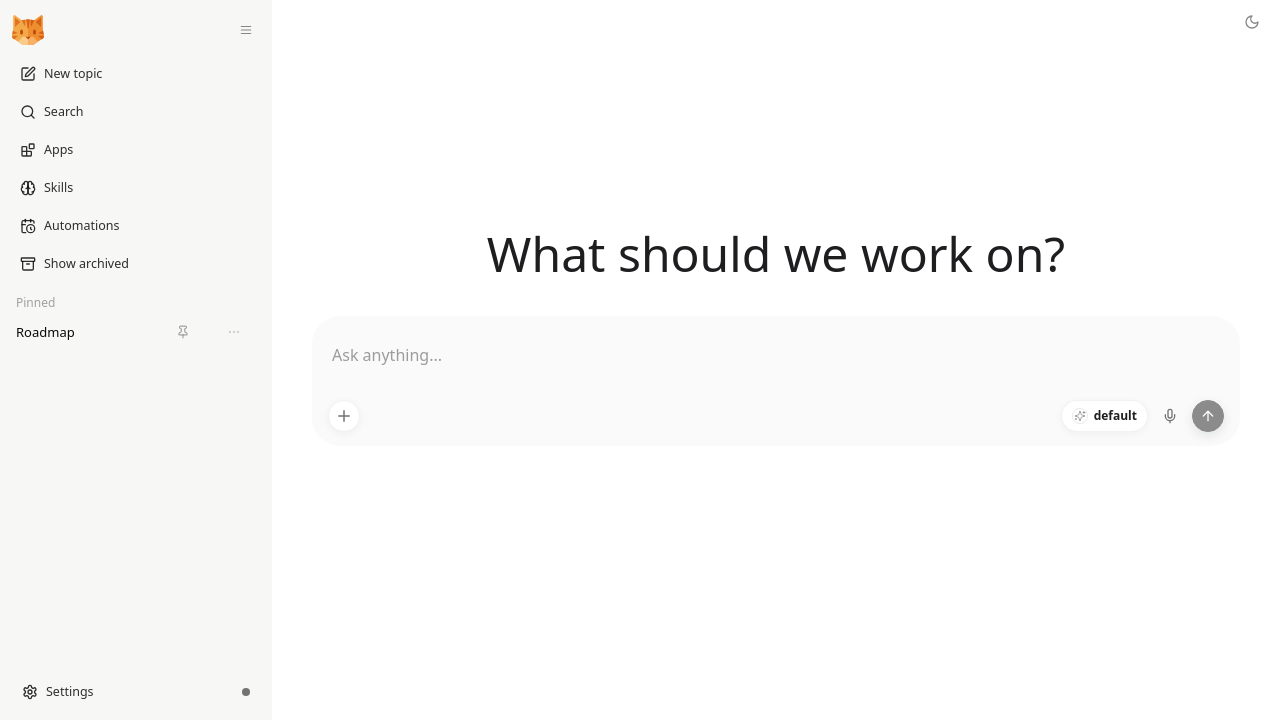
App layout › applies persisted sidebar workspace state from the gateway
Expected: the text "Pinned" is shown, [16, 294, 55, 311]
Expected: the button "Roadmap" is shown, [16, 316, 190, 348]
Click the button "Show archived" at (136, 264), box [8, 248, 264, 280]
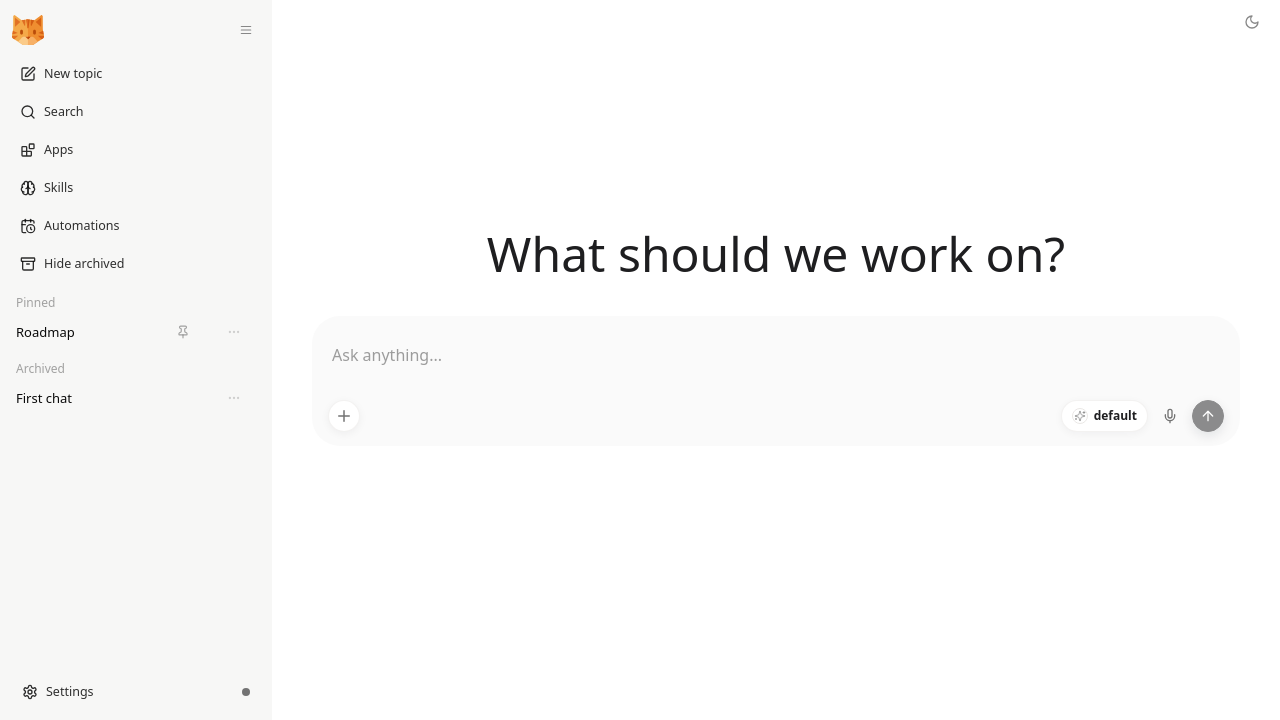
Expected: the text "Archived" is shown, [16, 360, 65, 377]
Expected: the button "First chat" is shown, [16, 382, 190, 414]
